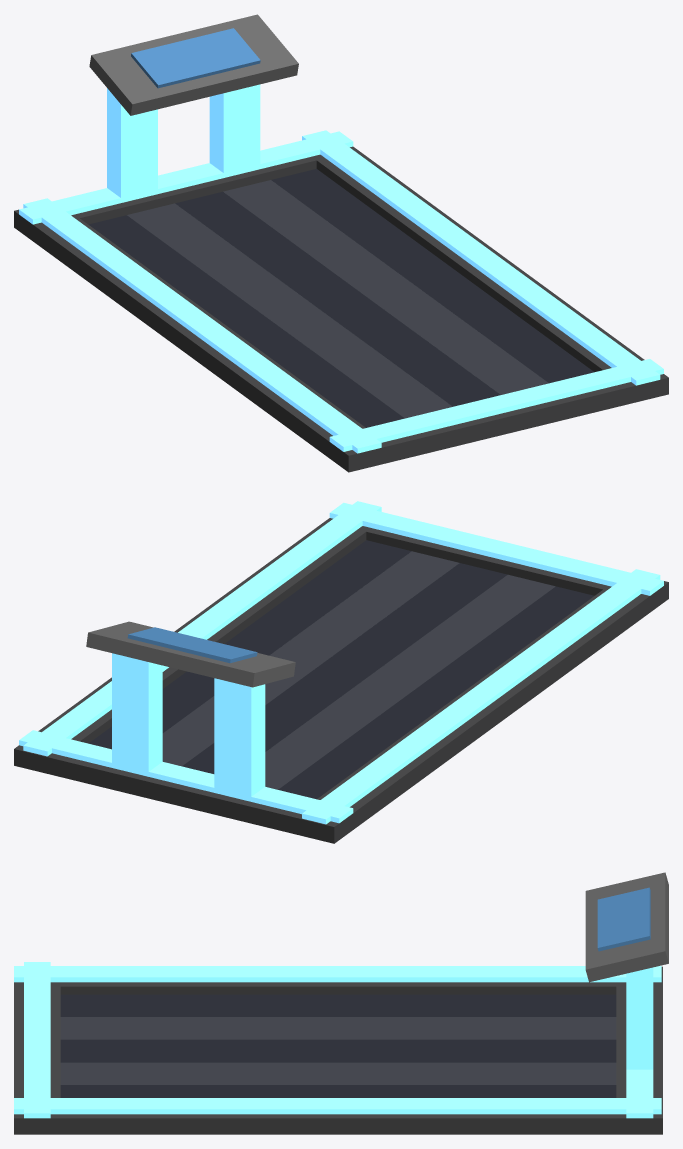
The model's file is Treadmill_Upgrade3.glb.
3 views of the same model, one above another, from view 1: azimuth 30°, elevation 25°; view 2: azimuth 150°, elevation 25°; view 3: azimuth 270°, elevation 25° (orthographic). The views are drawn at different scales.
Parts seen in each view (by area): view 1: Cube copy copy (×5), Cube copy copy copy (×3), Cube copy (×2), Cube copy copy copy copy copy copy copy (×2), Cube copy copy copy copy (×2), Cube copy copy copy copy copy, Cube, Cube copy copy copy copy copy copy, Cube copy copy copy copy copy copy copy copy; view 2: Cube copy copy (×5), Cube copy copy copy (×3), Cube copy (×2), Cube copy copy copy copy (×2), Cube copy copy copy copy copy copy copy (×2), Cube copy copy copy copy copy copy, Cube copy copy copy copy copy, Cube, Cube copy copy copy copy copy copy copy copy; view 3: Cube copy copy (×5), Cube copy copy copy (×3), Cube copy (×2), Cube copy copy copy copy copy copy copy (×2), Cube copy copy copy copy (×2), Cube, Cube copy copy copy copy copy copy copy copy, Cube copy copy copy copy copy.
Boxes of the visible parts, x1=… form: Cube copy copy (×5): x1=23, y1=146, x2=668, y2=453; Cube copy copy copy (×3): x1=223, y1=130, x2=668, y2=472; Cube copy (×2): x1=14, y1=211, x2=404, y2=471; Cube copy copy copy copy copy copy copy (×2): x1=89, y1=14, x2=298, y2=174; Cube copy copy copy copy (×2): x1=14, y1=148, x2=663, y2=451; Cube copy copy copy copy copy: x1=19, y1=131, x2=353, y2=224; Cube: x1=14, y1=222, x2=668, y2=472; Cube copy copy copy copy copy copy: x1=107, y1=88, x2=157, y2=200; Cube copy copy copy copy copy copy copy copy: x1=131, y1=28, x2=260, y2=88; Cube copy copy (×5): x1=16, y1=518, x2=660, y2=824; Cube copy copy copy (×3): x1=23, y1=501, x2=668, y2=766; Cube copy (×2): x1=278, y1=581, x2=668, y2=842; Cube copy copy copy copy (×2): x1=14, y1=502, x2=663, y2=843; Cube copy copy copy copy copy copy copy (×2): x1=86, y1=621, x2=295, y2=771; Cube copy copy copy copy copy copy: x1=214, y1=678, x2=265, y2=796; Cube copy copy copy copy copy: x1=19, y1=730, x2=353, y2=823; Cube: x1=335, y1=592, x2=668, y2=842; Cube copy copy copy copy copy copy copy copy: x1=127, y1=627, x2=257, y2=663; Cube copy copy (×5): x1=14, y1=966, x2=661, y2=1134; Cube copy copy copy (×3): x1=14, y1=982, x2=661, y2=1134; Cube copy (×2): x1=14, y1=982, x2=661, y2=1016; Cube copy copy copy copy copy copy copy (×2): x1=585, y1=872, x2=668, y2=1069; Cube copy copy copy copy (×2): x1=24, y1=962, x2=662, y2=1134; Cube: x1=14, y1=1128, x2=661, y2=1134; Cube copy copy copy copy copy copy copy copy: x1=597, y1=887, x2=650, y2=951; Cube copy copy copy copy copy: x1=626, y1=1069, x2=653, y2=1118.
Bounding box in the file's own units: 10 × 4.55 × 18.27.
